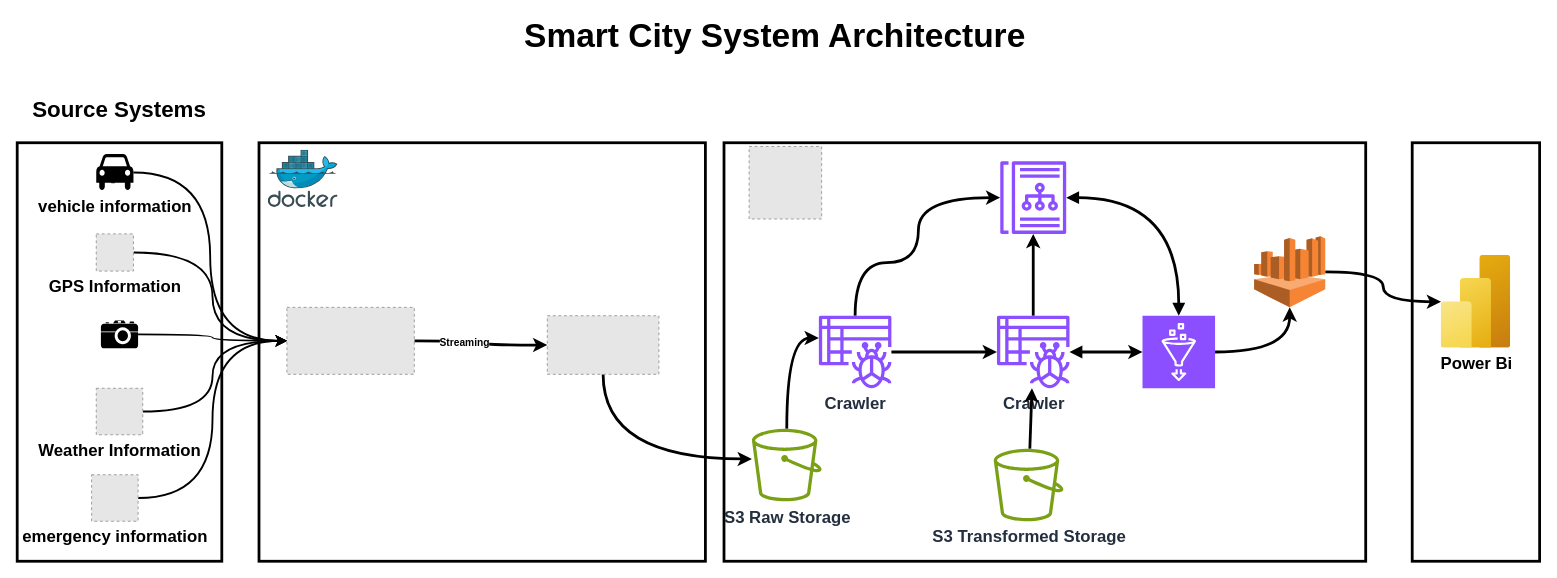
The diagram is 1557 pixels wide and 578 high, and some of its shapes have lost their labels. Grey dashed boxes stand in for pictures. Each missing label, with the box of its shape:
Amazon Athena: (1253, 235, 1325, 307)
AWS GLUE: (1142, 315, 1215, 388)
Camera Information: (100, 320, 138, 348)
Data Catalog: (1000, 161, 1066, 233)
